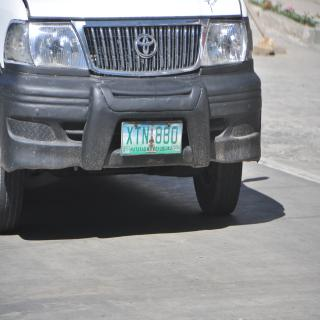license: (122, 122, 184, 156)
